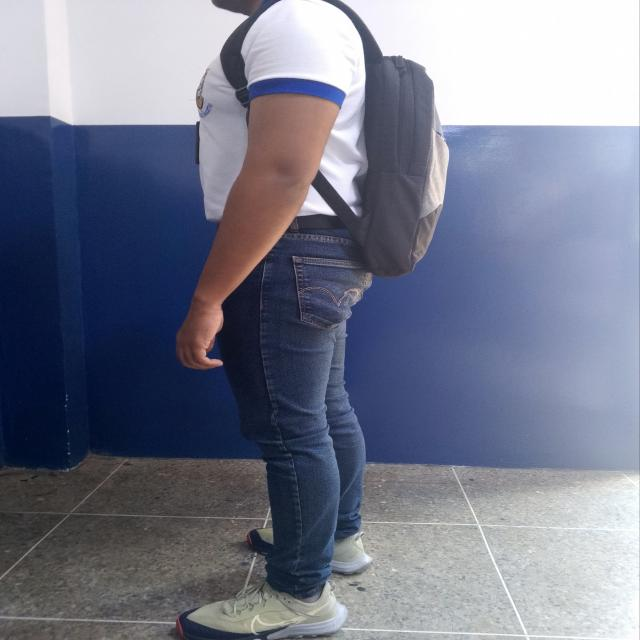pantalon_oscuro: (218, 231, 374, 600)
uniforme_superior: (193, 0, 370, 222)
